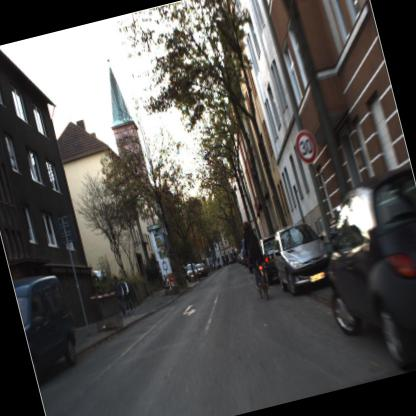prohibitory: (289, 127, 324, 169)
